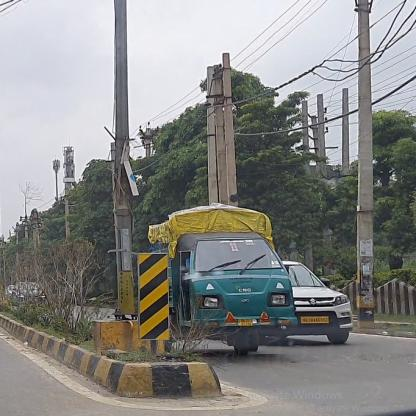car: (281, 260, 355, 346)
truck: (148, 206, 302, 358)
